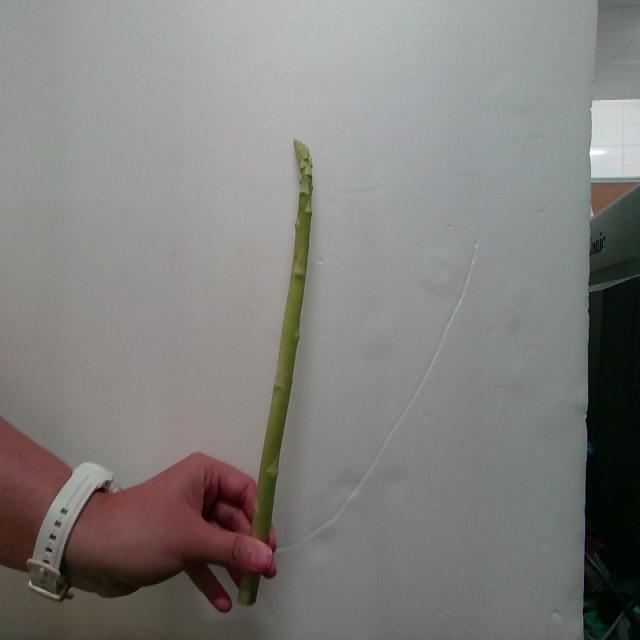aspargus: (254, 142, 318, 551)
